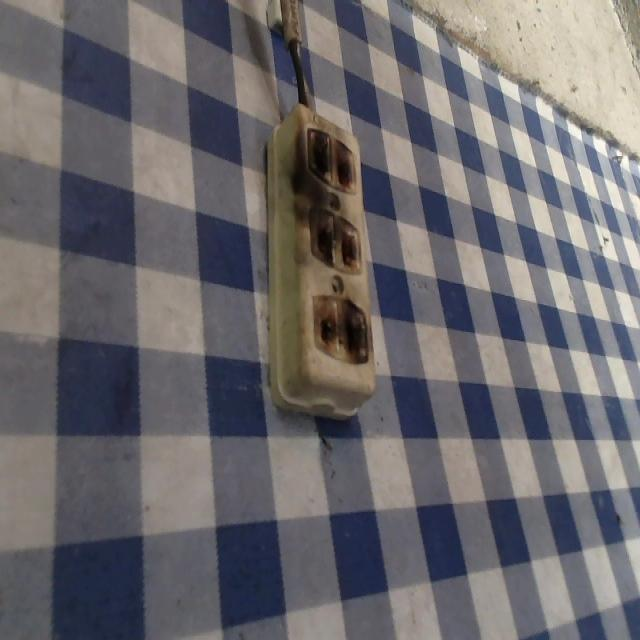-: (307, 288, 370, 363), (303, 121, 357, 198), (306, 204, 362, 272)
